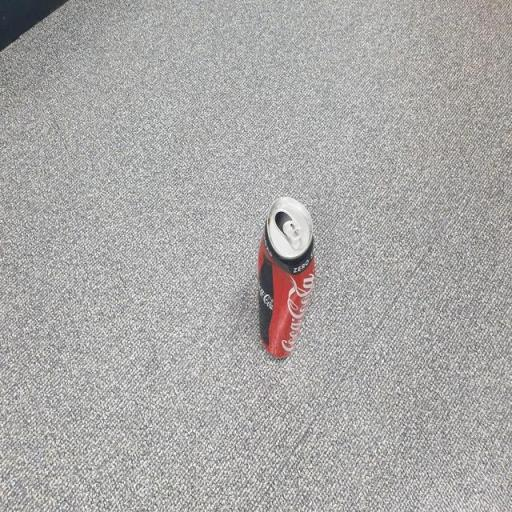metal: (241, 140, 328, 416)
